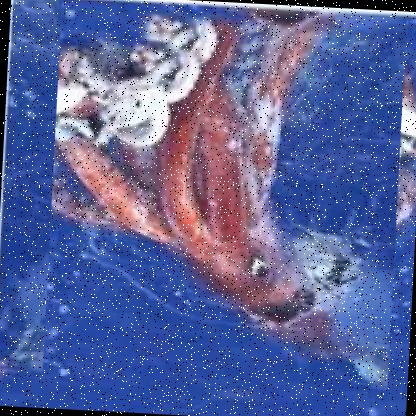colossal_squid: (41, 0, 407, 393)
